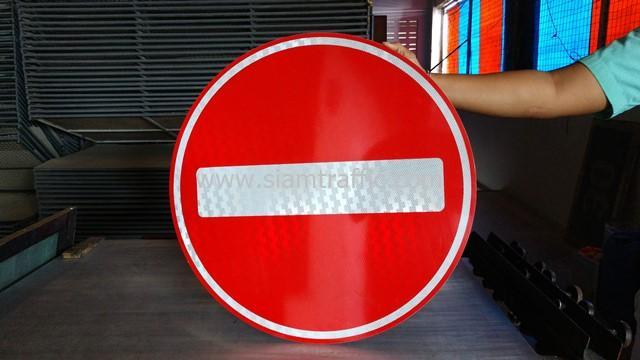B2: (166, 30, 478, 344)
